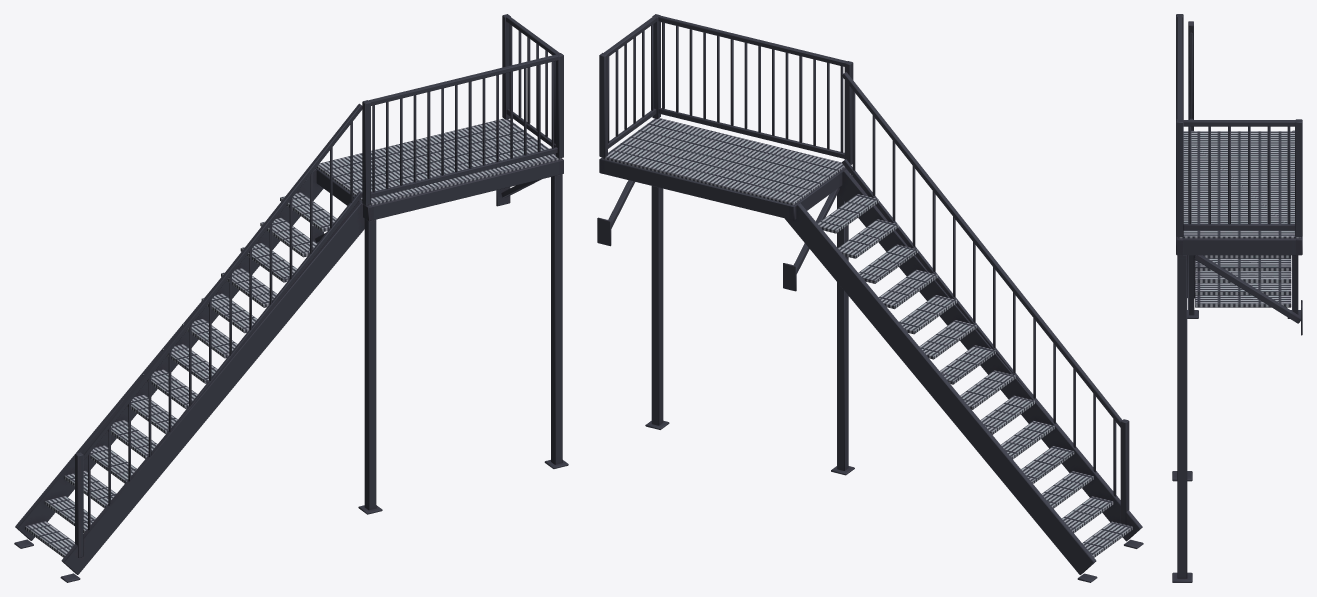
File: fire-escape.glb
The picture shows the model from 3 angles, left to right: view 1: azimuth 30°, elevation 25°; view 2: azimuth 150°, elevation 25°; view 3: azimuth 270°, elevation 25°; orthographic projection. The views are drawn at different scales.
Visible parts, largest first — view 1: fire-escape_body; view 2: fire-escape_body; view 3: fire-escape_body.
Boxes of the visible parts, bbox=[...] form: fire-escape_body: bbox=[14, 14, 568, 582]; fire-escape_body: bbox=[597, 14, 1143, 582]; fire-escape_body: bbox=[1172, 14, 1302, 582].
Size of the model in its own units: 5.08 by 4 by 1.03.
Materials: 1 (1 with a texture image).
